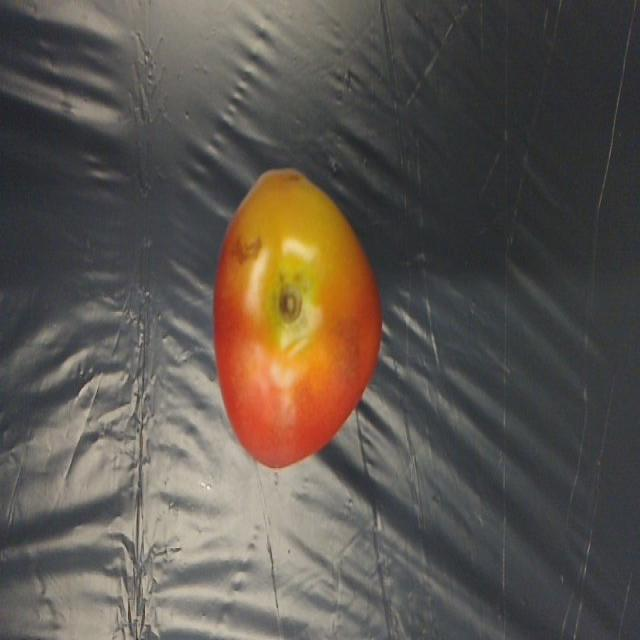sari: (196, 148, 404, 508)
